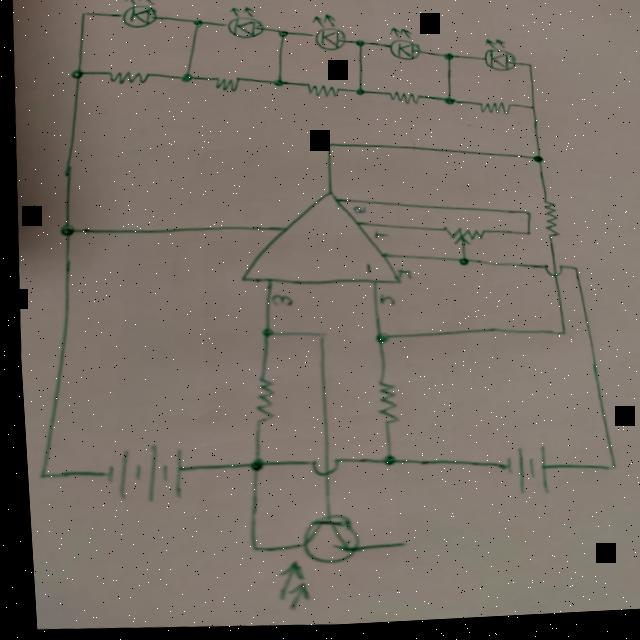crossover: (303, 459, 339, 483), (540, 269, 561, 285)
diode: (382, 27, 424, 68), (309, 16, 349, 56), (225, 7, 267, 44), (477, 42, 518, 78), (117, 0, 161, 32)
junction: (255, 324, 277, 345), (241, 458, 262, 478), (373, 454, 393, 473), (68, 66, 88, 84), (368, 334, 388, 350), (186, 18, 207, 33), (306, 332, 327, 346), (175, 71, 194, 86), (56, 223, 73, 239), (239, 543, 257, 558), (28, 469, 47, 483), (275, 31, 293, 44), (596, 467, 613, 480), (451, 260, 468, 273), (439, 99, 457, 111), (269, 79, 285, 92), (521, 107, 538, 119), (528, 159, 544, 171), (318, 142, 334, 154), (550, 332, 565, 344), (519, 66, 535, 77), (77, 10, 92, 20), (352, 90, 365, 101), (352, 42, 365, 53), (441, 57, 455, 67), (517, 233, 531, 243), (518, 213, 530, 224), (566, 271, 578, 279)
resistor: (367, 381, 399, 431), (436, 229, 484, 256), (247, 378, 273, 426), (104, 68, 150, 89), (537, 205, 557, 247), (384, 92, 421, 112), (302, 86, 343, 103), (211, 76, 243, 96), (475, 104, 512, 121)
source: (96, 447, 184, 500), (492, 448, 547, 502)
terminal: (380, 541, 407, 555)
text: (265, 295, 290, 311), (374, 296, 393, 311), (391, 272, 409, 285), (371, 233, 387, 244), (348, 209, 364, 219), (361, 265, 370, 278)
transistor: (263, 515, 356, 618)
